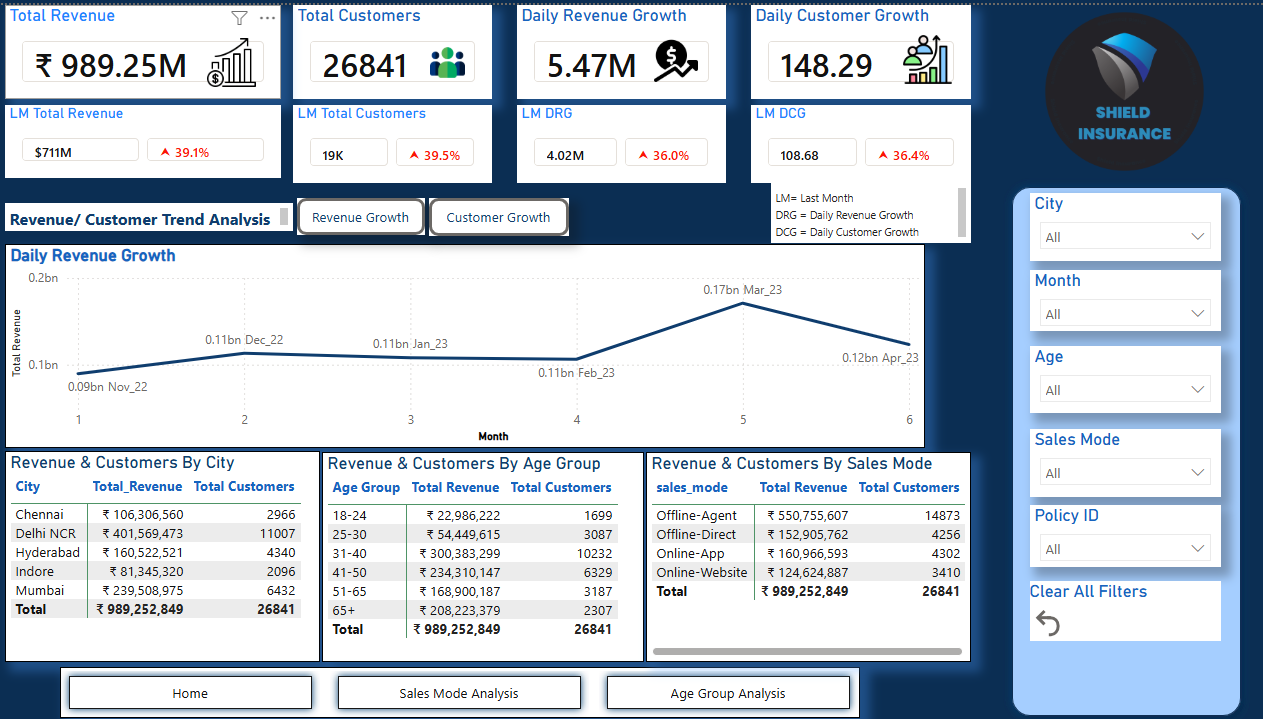

The page's visual inventory and layout, read from the dashboard file:
{"tool":"powerbi","page":{"name":"General View","canvas":[1280,720],"ordinal":1},"visuals":[{"type":"shape","box":[1014.7,172.6,247.4,547.4],"z":0},{"type":"cardVisual","title":"Total Customers","fields":{"Data":["dim_customer.Total_Customers"]},"box":[304.8,0,199.3,93.7],"z":1000},{"type":"cardVisual","title":"Total Revenue","fields":{"Data":["fact_premiums.Total_Revenue"]},"box":[17.2,0,275.8,93.7],"z":2000},{"type":"image","box":[1010.7,0,251.7,172.6],"z":3000},{"type":"lineChart","title":"Daily Revenue Growth","fields":{"Y":["fact_premiums.Total_Revenue"],"Category":["dim_date.MonthNumber"]},"box":[16.9,239.4,920,203.1],"z":4000},{"type":"actionButton","title":"RG","box":[308.8,193.1,128.1,36.9],"z":6000},{"type":"actionButton","box":[441.2,193.1,139.4,37.5],"z":7000},{"type":"image","box":[217.7,33,51.5,48.8],"z":8000},{"type":"image","box":[436.8,39.6,46.2,35.6],"z":9000},{"type":"cardVisual","title":"Daily Revenue Growth","fields":{"Data":["dim_customer.DRG"]},"box":[529.2,0,208.5,93.7],"z":10000},{"type":"image","box":[666.4,33,43.5,43.5],"z":11000},{"type":"cardVisual","title":"Daily Customer Growth","fields":{"Data":["dim_customer.DCG"]},"box":[762.7,0,220.4,93.7],"z":12000},{"type":"image","box":[913.2,30.4,54.1,48.8],"z":13000},{"type":"slicer","title":"City","fields":{"Values":["dim_customer.city"]},"box":[1041.9,188.4,190.9,67.3],"z":14000},{"type":"slicer","title":"Month","fields":{"Values":["dim_date.mmm_yy"]},"box":[1041.9,264.9,190.9,61.2],"z":15000},{"type":"slicer","title":"Age","fields":{"Values":["fact_settlements.age"]},"box":[1041.9,341.3,190.9,66.7],"z":16000},{"type":"slicer","title":"Sales Mode","fields":{"Values":["fact_premiums.sales_mode"]},"box":[1041.9,423.9,190.9,68.5],"z":17000},{"type":"slicer","title":"Policy ID","fields":{"Values":["fact_premiums.policy_id"]},"box":[1041.9,499.8,190.9,61.8],"z":18000},{"type":"pivotTable","title":"Revenue & Customers By City","fields":{"Rows":["dim_customer.city"],"Values":["fact_premiums.Total_Revenue","dim_customer.Total_Customers"]},"box":[16.9,446.2,315,210.6],"z":19000},{"type":"pivotTable","title":"Revenue & Customers By Age Group","fields":{"Values":["fact_premiums.Total_Revenue","dim_customer.Total_Customers"],"Rows":["dim_customer.Age_group"]},"box":[334.4,446.9,321.9,210],"z":20000},{"type":"pageNavigator","box":[72.4,662.5,799.8,50.1],"z":21000},{"type":"textbox","box":[16.9,197.5,288.1,28.8],"z":22000},{"type":"actionButton","title":"Clear All Filters","box":[1041.6,576.5,191.1,60],"z":23000},{"type":"pivotTable","title":"Revenue & Customers By Sales Mode","fields":{"Values":["fact_premiums.Total_Revenue","dim_customer.Total_Customers"],"Rows":["fact_premiums.sales_mode"]},"box":[658.1,446.9,325,210],"z":24000},{"type":"cardVisual","title":"LM Total Customers","fields":{"Data":["dim_customer.LM Total Customers","dim_customer.%chg Total Customers"]},"box":[305,100,199.4,77.5],"z":25000},{"type":"cardVisual","title":"LM DRG","fields":{"Data":["dim_customer.LM Daily Revenue Growth","dim_customer.%chg DRG"]},"box":[528.9,100.2,209.1,77.3],"z":26000},{"type":"cardVisual","title":"LM DCG","fields":{"Data":["dim_customer.LM Daily Customer Growth","dim_customer.%chg DCG"]},"box":[762.7,100.2,220.2,77.3],"z":27000},{"type":"cardVisual","title":"LM Total Revenue","fields":{"Data":["dim_customer.LM Total Revenue","dim_customer.%chg Total Revenue"]},"box":[16.9,100,275.6,72.5],"z":28000},{"type":"textbox","box":[782.5,177.5,200.6,60.6],"z":29000}]}

Visuals, with their boxes in screenshot pixels (x1, y1, x2, y2), scaled from the page's 1280x720 canvas onto the 1263x719 screenshot:
shape: Rect(1001, 172, 1245, 718)
"Total Customers" cardVisual: Rect(301, 0, 497, 94)
"Total Revenue" cardVisual: Rect(17, 0, 289, 94)
image: Rect(997, 0, 1246, 172)
"Daily Revenue Growth" lineChart: Rect(17, 239, 924, 442)
"RG" actionButton: Rect(305, 193, 431, 230)
actionButton: Rect(435, 193, 573, 230)
image: Rect(215, 33, 266, 82)
image: Rect(431, 40, 477, 75)
"Daily Revenue Growth" cardVisual: Rect(522, 0, 728, 94)
image: Rect(658, 33, 700, 76)
"Daily Customer Growth" cardVisual: Rect(753, 0, 970, 94)
image: Rect(901, 30, 954, 79)
"City" slicer: Rect(1028, 188, 1216, 255)
"Month" slicer: Rect(1028, 265, 1216, 326)
"Age" slicer: Rect(1028, 341, 1216, 407)
"Sales Mode" slicer: Rect(1028, 423, 1216, 492)
"Policy ID" slicer: Rect(1028, 499, 1216, 561)
"Revenue & Customers By City" pivotTable: Rect(17, 446, 327, 656)
"Revenue & Customers By Age Group" pivotTable: Rect(330, 446, 648, 656)
pageNavigator: Rect(71, 662, 861, 712)
textbox: Rect(17, 197, 301, 226)
"Clear All Filters" actionButton: Rect(1028, 576, 1216, 636)
"Revenue & Customers By Sales Mode" pivotTable: Rect(649, 446, 970, 656)
"LM Total Customers" cardVisual: Rect(301, 100, 498, 177)
"LM DRG" cardVisual: Rect(522, 100, 728, 177)
"LM DCG" cardVisual: Rect(753, 100, 970, 177)
"LM Total Revenue" cardVisual: Rect(17, 100, 289, 172)
textbox: Rect(772, 177, 970, 238)
